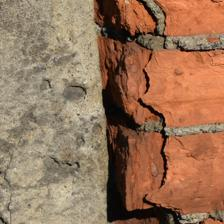Crack: (67, 23, 118, 193)
